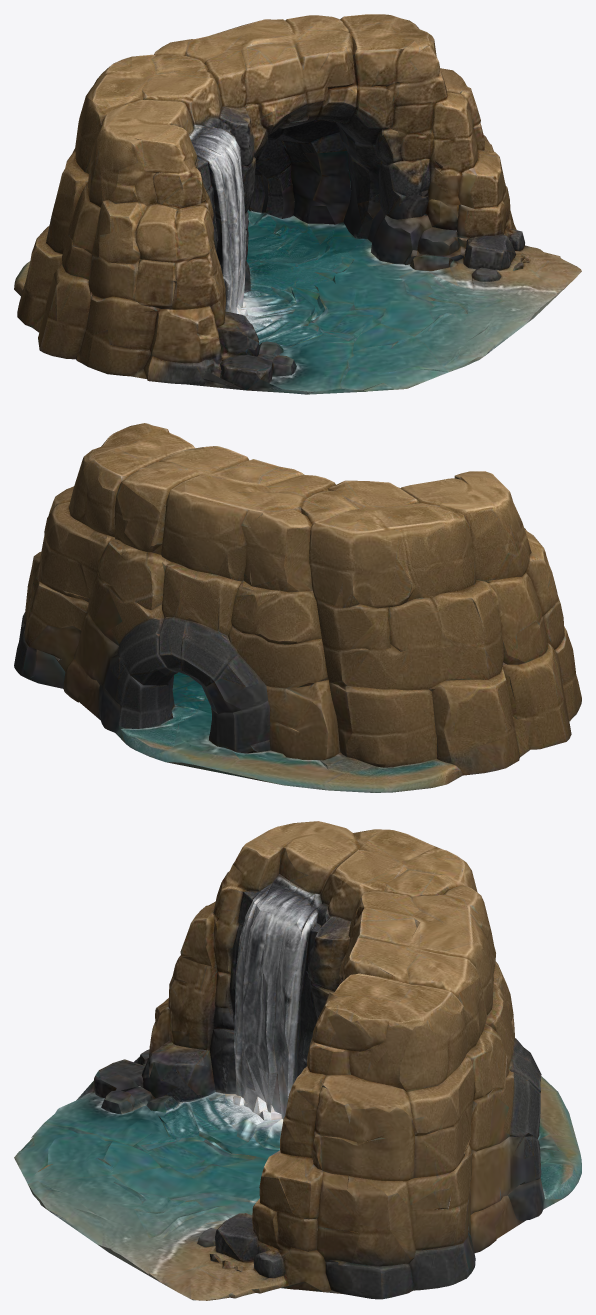
The model's file is waterfall-cave.glb.
3 renders of one model, top to bottom at view 1: azimuth 30°, elevation 25°; view 2: azimuth 150°, elevation 25°; view 3: azimuth 270°, elevation 25°, orthographic. The views are drawn at different scales.
Bounding box in the file's own units: 1.9 × 0.795 × 1.65.
1 material, 1 textured.
